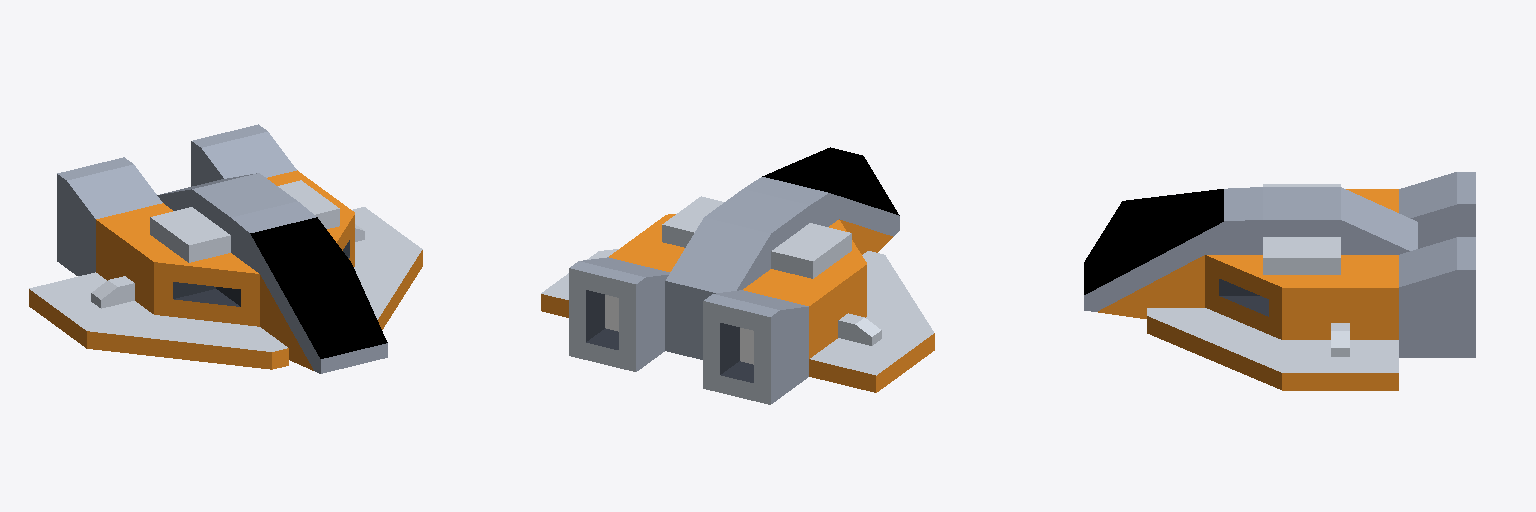
Rendered from pirate.obj.
3 views of the same model, side by side, from view 1: azimuth 30°, elevation 25°; view 2: azimuth 150°, elevation 25°; view 3: azimuth 270°, elevation 25° (orthographic).
Parts seen in each view (by area): view 1: craft_speederB; view 2: craft_speederB; view 3: craft_speederB.
Boxes of the visible parts, x1=… form: craft_speederB: x1=29, y1=124, x2=422, y2=373; craft_speederB: x1=541, y1=147, x2=934, y2=404; craft_speederB: x1=1084, y1=172, x2=1475, y2=390.
Bounding box in the file's own units: 2 × 0.6 × 2.03.